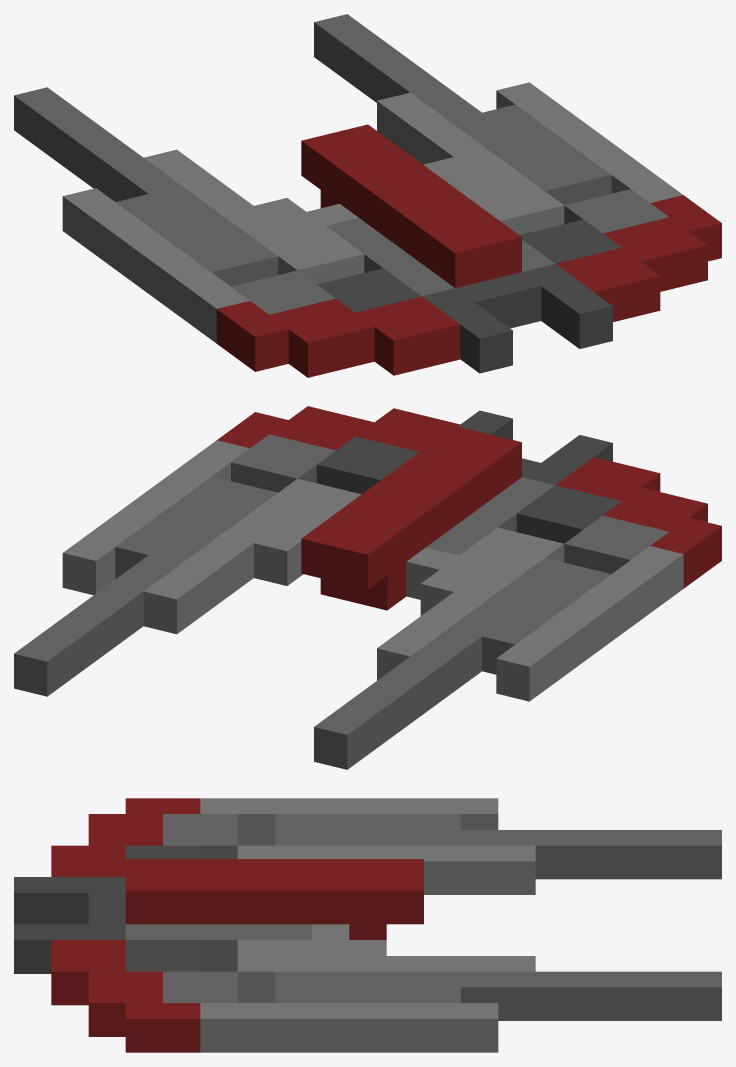
File: Wing-18-Transtellar_Hood.obj
The picture shows the model from 3 angles, top to bottom: view 1: azimuth 30°, elevation 25°; view 2: azimuth 150°, elevation 25°; view 3: azimuth 270°, elevation 25°; orthographic projection. The views are drawn at different scales.
Visible parts, largest first — view 1: Transtellar_Hood; view 2: Transtellar_Hood; view 3: Transtellar_Hood.
Boxes of the visible parts, x1,y1,x2,y2 form: Transtellar_Hood: (14,14,721,377); Transtellar_Hood: (14,406,721,769); Transtellar_Hood: (14,798,721,1052).
Bounding box in the file's own units: 1.4 × 0.2 × 1.9.
1 material, 1 textured.
